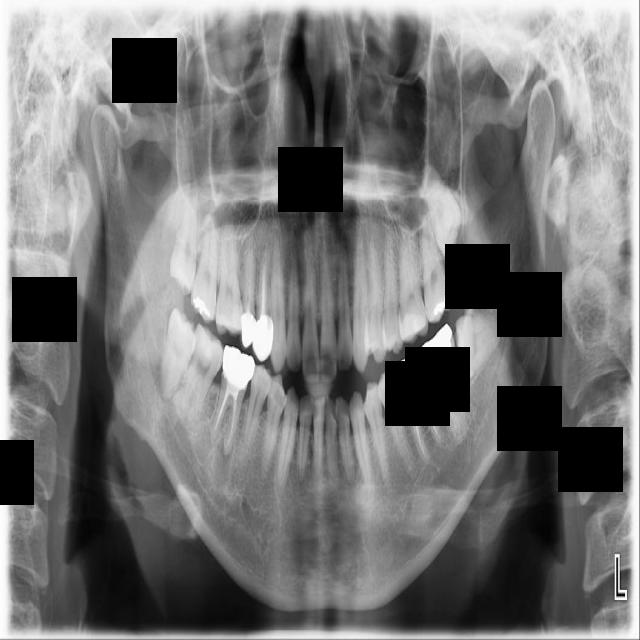3M ESPE Implant: (167, 193, 202, 296)
52: (409, 323, 471, 384), (386, 347, 440, 405), (210, 342, 261, 394), (421, 272, 455, 324), (189, 275, 217, 325), (250, 312, 275, 364), (238, 309, 257, 352)
73: (427, 355, 471, 440), (401, 384, 447, 462), (206, 376, 247, 456), (241, 233, 255, 313), (255, 247, 270, 315), (604, 584, 613, 600)
BioHorizons Implant: (416, 209, 454, 324)
BioLife Implant: (414, 157, 473, 260)
Biomet 3i Implant: (454, 314, 502, 382)
Blue Sky Bio Implant: (416, 323, 471, 441)
Caries: (189, 200, 222, 324)
Implant: (176, 322, 230, 426)
Keystone Dental Implant: (157, 307, 201, 405)
